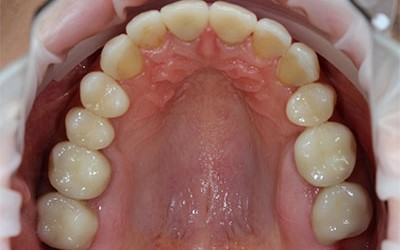UL1BC_healthy: (287, 85, 338, 124)
UL1M_healthy: (315, 185, 374, 237)
UL2BC_healthy: (293, 127, 356, 180)
ULCI_healthy: (209, 1, 254, 42)
ULC_healthy: (278, 46, 321, 86)
ULLI_healthy: (255, 23, 290, 57)
UR1BC_healthy: (81, 77, 130, 117)
UR1M_healthy: (52, 149, 112, 198)
UR2BC_healthy: (66, 109, 117, 148)
UR2M_healthy: (41, 198, 97, 246)
URCI_healthy: (165, 1, 207, 35)
URC_healthy: (101, 37, 146, 77)
URLI_healthy: (126, 12, 166, 51)
